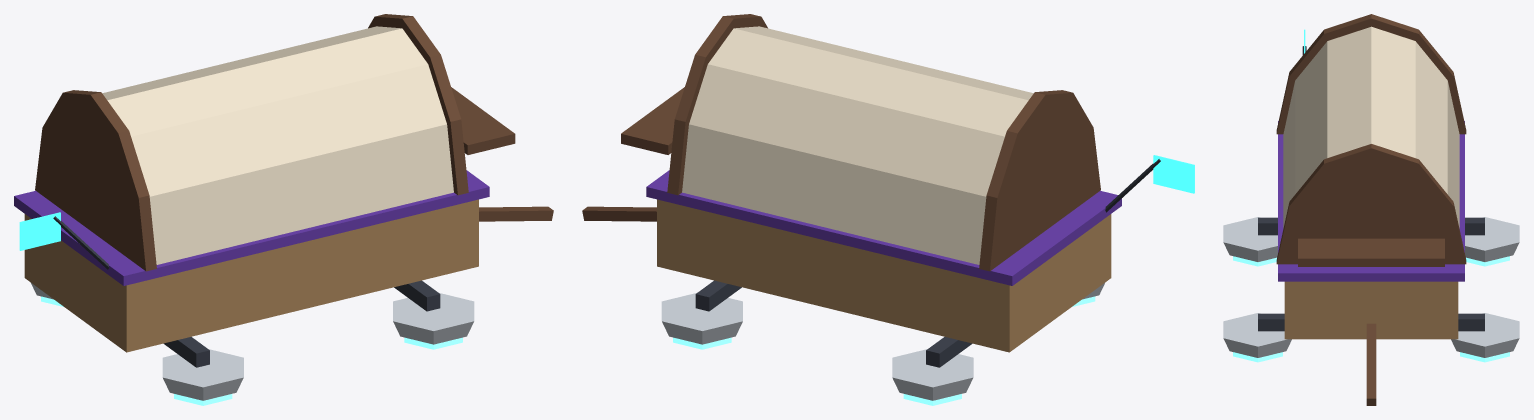
The model's file is Prop_HoverWagon.fbx.
The picture shows the model from 3 angles, left to right: view 1: azimuth 30°, elevation 25°; view 2: azimuth 150°, elevation 25°; view 3: azimuth 270°, elevation 25°; orthographic projection. The views are drawn at different scales.
Parts seen in each view (by area): view 1: Prop_HoverWagon; view 2: Prop_HoverWagon; view 3: Prop_HoverWagon.
Part boxes in pixels (x1,y1,x2,y2): Prop_HoverWagon: [14, 14, 553, 405]; Prop_HoverWagon: [582, 14, 1194, 405]; Prop_HoverWagon: [1223, 14, 1519, 405].
Size of the model in its own units: 4.21 by 1.83 by 2.22.
